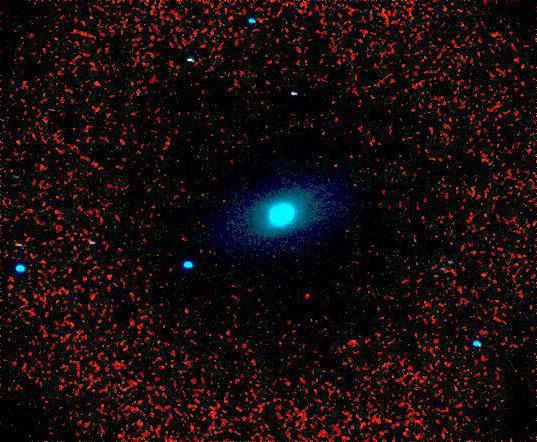star: (322, 156, 352, 186)
